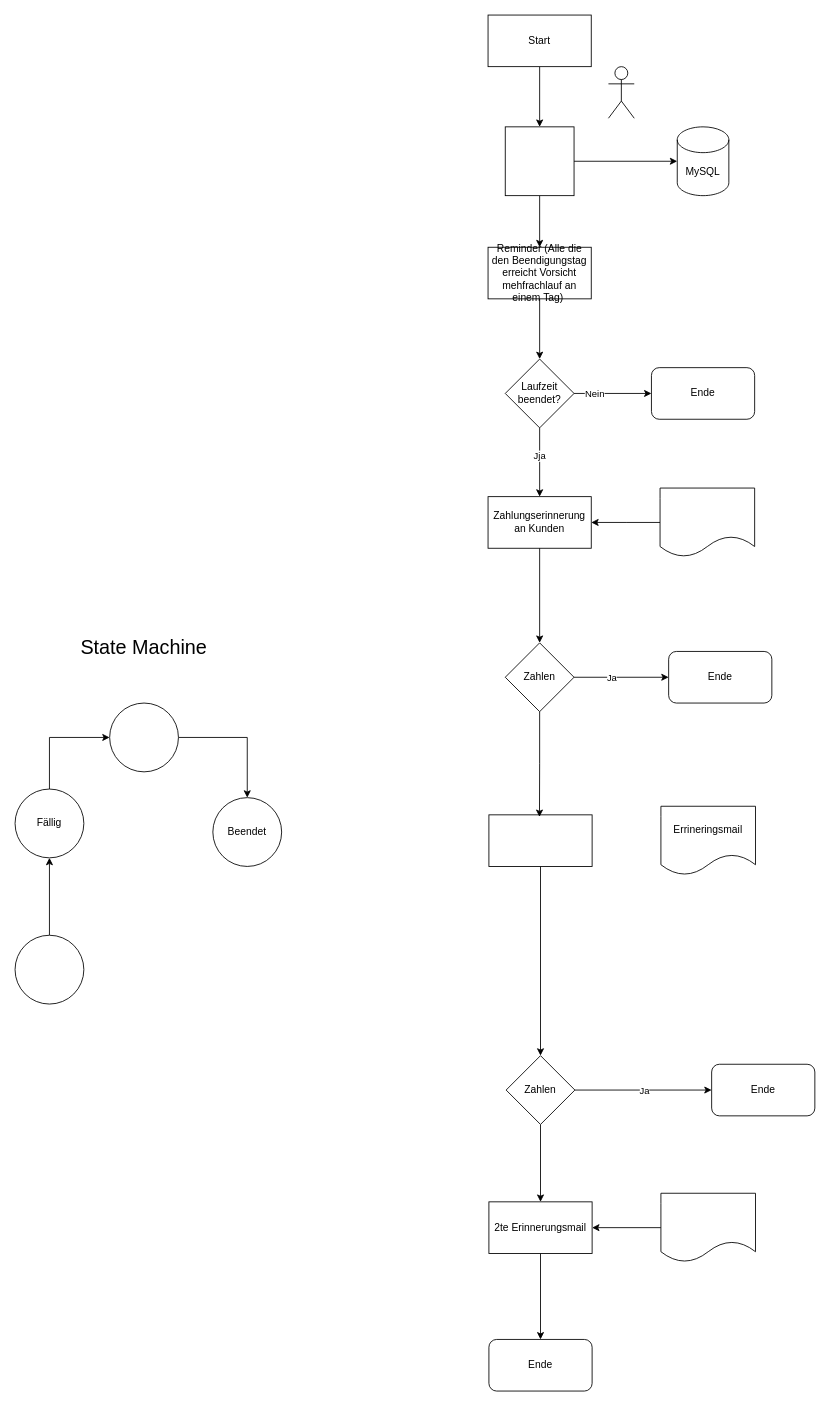
This 830x1406 diagram has some shape labels left out. The centre of each missing label's shape, as x and y in pixels:
2 Zahlungserinnerung: the point at 708,1227
Admin: the point at 621,92
Bezahlt: the point at 49,969
Erinnerungsmail: the point at 540,840
Registrieren + Enddatum: the point at 539,161
Säumig: the point at 143,737
Zahlungserinnerung: the point at 707,522
